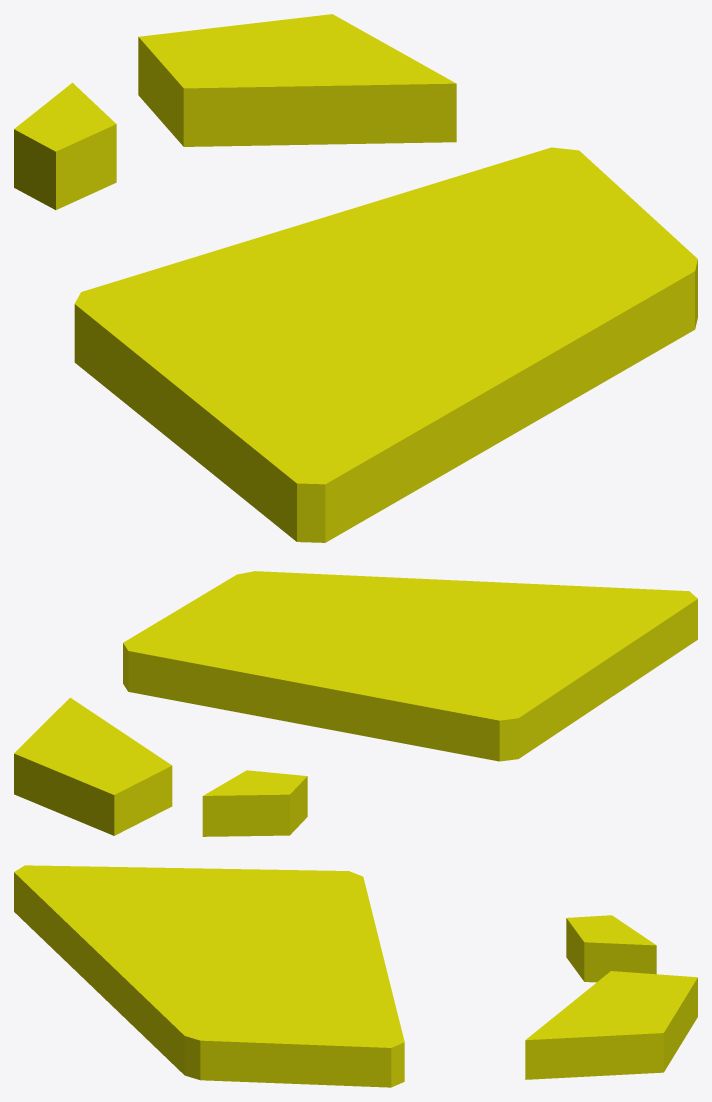
The picture shows the model from 3 angles, top to bottom: view 1: azimuth 30°, elevation 25°; view 2: azimuth 150°, elevation 25°; view 3: azimuth 270°, elevation 25°; orthographic projection. The views are drawn at different scales.
Visible parts, largest first — view 1: rock_002; view 2: rock_002; view 3: rock_002.
Part boxes in pixels (x1,y1,x2,y2): rock_002: [14, 14, 697, 542]; rock_002: [14, 571, 697, 836]; rock_002: [14, 865, 697, 1087].
Bounding box in the file's own units: 0.4659 × 0.0472 × 0.7374.
1 material, 1 textured.
